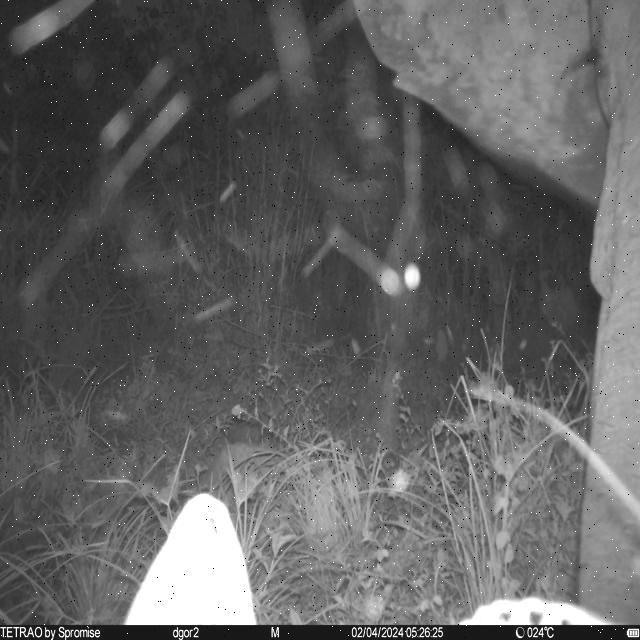ear: (352, 0, 612, 228)
elephant: (352, 0, 640, 625)
